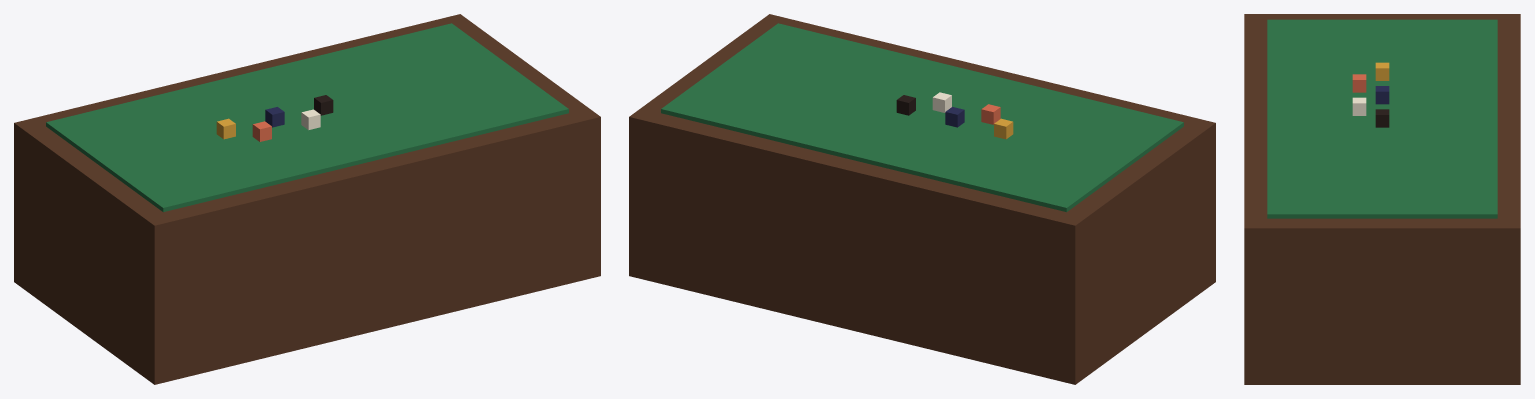
File: pool_table.glb
3 renders of one model, left to right at view 1: azimuth 30°, elevation 25°; view 2: azimuth 150°, elevation 25°; view 3: azimuth 270°, elevation 25°, orthographic.
Visible parts, largest first — view 1: Box1, Box2; view 2: Box1, Box2; view 3: Box1, Box2, Box4, Box7, Box3, Box5, Box6.
Boxes of the visible parts, bbox=[...] form: Box1: bbox=[14, 14, 600, 384]; Box2: bbox=[46, 23, 568, 212]; Box1: bbox=[629, 14, 1215, 384]; Box2: bbox=[661, 23, 1183, 212]; Box1: bbox=[1244, 14, 1520, 384]; Box2: bbox=[1267, 19, 1497, 218]; Box4: bbox=[1352, 74, 1366, 92]; Box7: bbox=[1375, 109, 1389, 127]; Box3: bbox=[1375, 62, 1389, 80]; Box5: bbox=[1375, 86, 1389, 104]; Box6: bbox=[1352, 97, 1366, 115].
Size of the model in its own units: 2.2 by 0.83 by 1.2.
